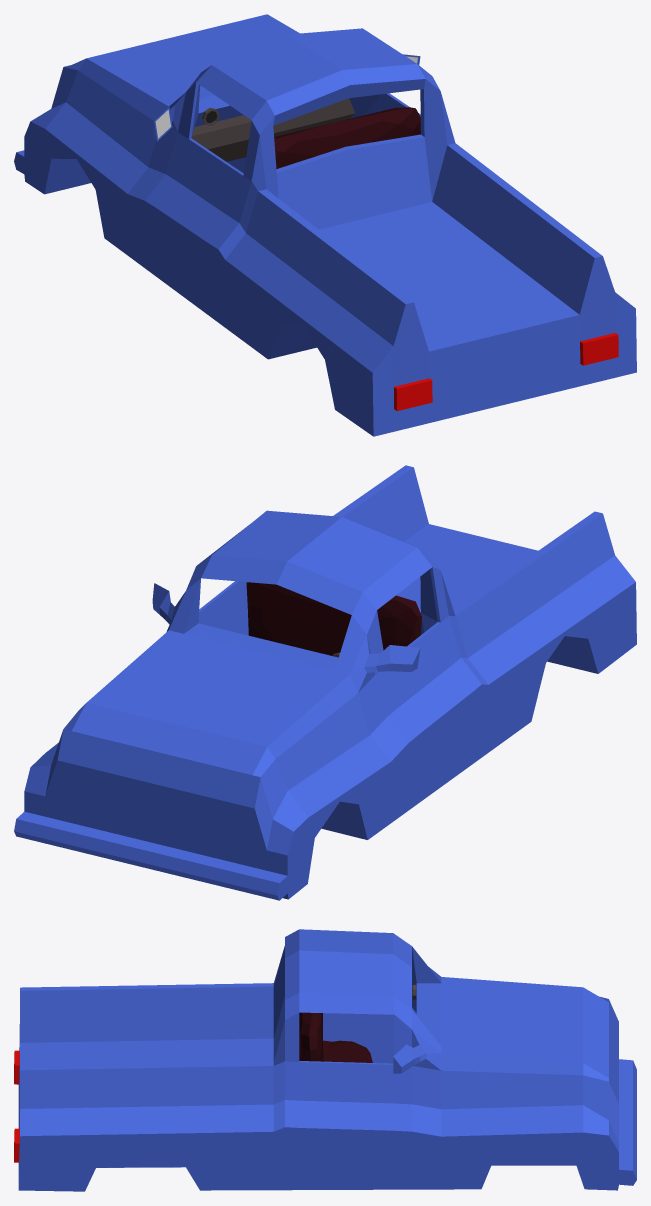
Rendered from truck.glb.
The picture shows the model from 3 angles, top to bottom: view 1: azimuth 30°, elevation 25°; view 2: azimuth 150°, elevation 25°; view 3: azimuth 270°, elevation 25°; orthographic projection. The views are drawn at different scales.
Parts seen in each view (by area): view 1: Truck, Seats, Dashboard; view 2: Truck, Seats; view 3: Truck, Seats.
Boxes of the visible parts, x1=… form: Truck: x1=14, y1=14, x2=636, y2=436; Seats: x1=274, y1=107, x2=420, y2=168; Dashboard: x1=191, y1=98, x2=355, y2=161; Truck: x1=14, y1=465, x2=636, y2=900; Seats: x1=246, y1=582, x2=421, y2=655; Truck: x1=14, y1=929, x2=636, y2=1191; Seats: x1=299, y1=1012, x2=372, y2=1062.
Bounding box in the file's own units: 2.34 × 1.82 × 5.51.
